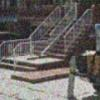stairs: (7, 15, 61, 40), (33, 18, 83, 43)
